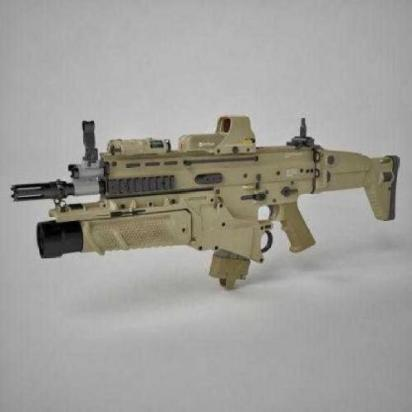Gun: (8, 100, 411, 279)
